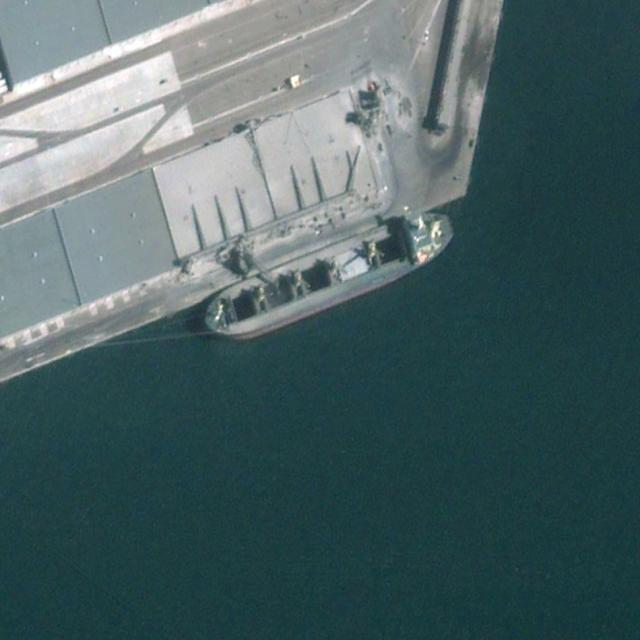Cargo: (198, 200, 461, 354)
